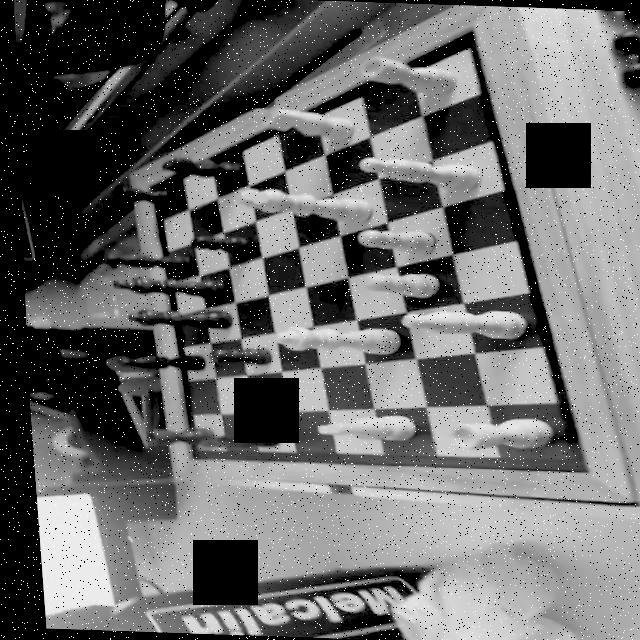chess-table-corners: (454, 18, 486, 48), (560, 458, 594, 482), (168, 453, 192, 468), (134, 182, 154, 196)
